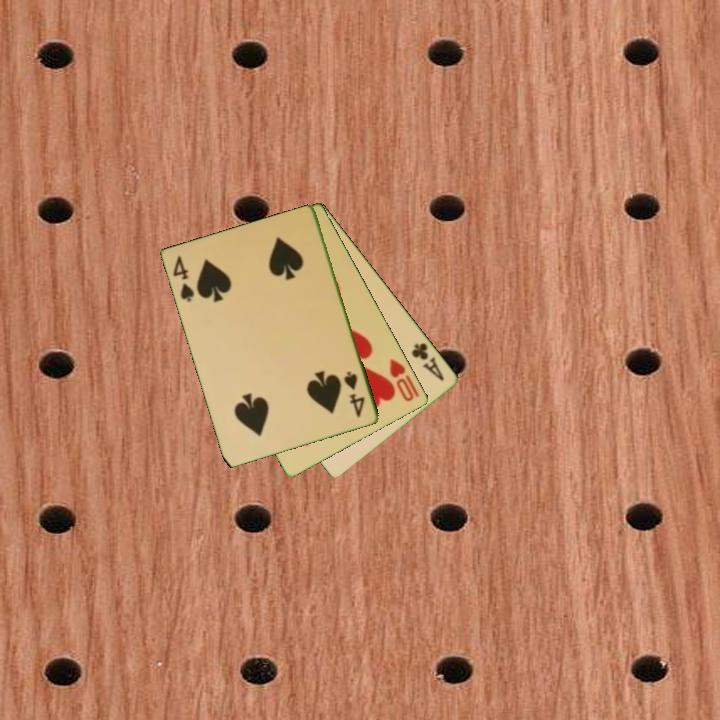10h: (386, 355, 423, 405)
4s: (170, 252, 198, 305), (341, 368, 368, 420)
Ac: (408, 339, 447, 384)
